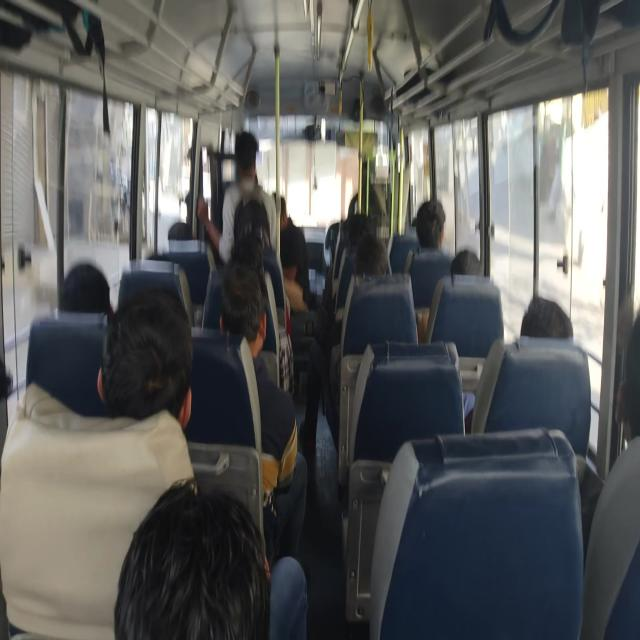person: (113, 476, 308, 639), (219, 261, 308, 561), (298, 232, 389, 454), (581, 311, 639, 638), (463, 295, 573, 432), (97, 287, 193, 430), (196, 130, 280, 265), (278, 195, 311, 312), (615, 311, 639, 445), (58, 260, 112, 315), (520, 295, 573, 339), (416, 198, 446, 250), (354, 233, 388, 277), (450, 248, 483, 277)
